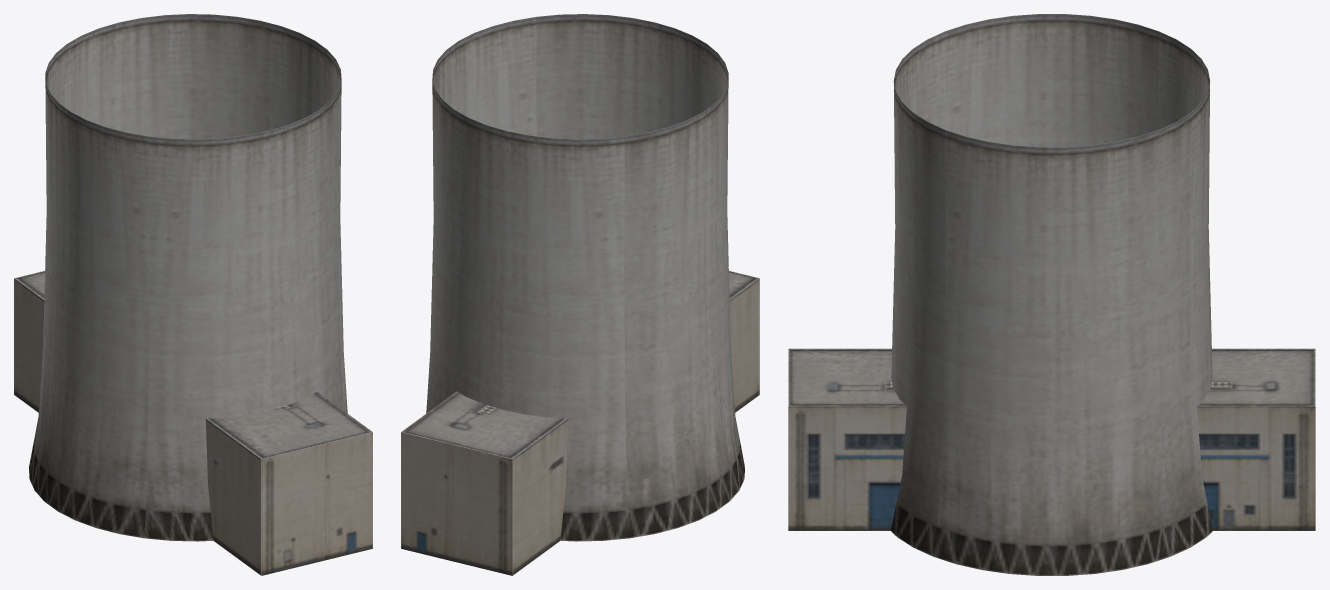
The model's file is cooling.glb.
3 views of the same model, side by side, from view 1: azimuth 30°, elevation 25°; view 2: azimuth 150°, elevation 25°; view 3: azimuth 270°, elevation 25° (orthographic). The views are drawn at different scales.
Visible parts, largest first — view 1: Circle, Cube; view 2: Circle, Cube; view 3: Circle, Cube.
Part boxes in pixels (<box>): Circle: <box>29,14,347,541</box>; Cube: <box>14,271,372,575</box>; Circle: <box>426,14,744,541</box>; Cube: <box>401,271,759,575</box>; Circle: <box>891,14,1212,575</box>; Cube: <box>788,348,1315,530</box>.
Size of the model in its own units: 1.99 by 2.64 by 3.
2 materials, 2 textured.
